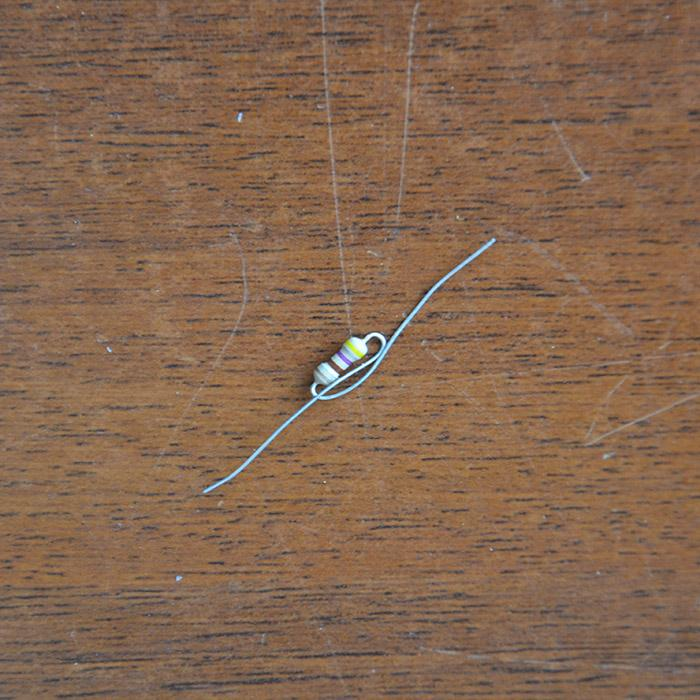resistor: (312, 333, 371, 387)
